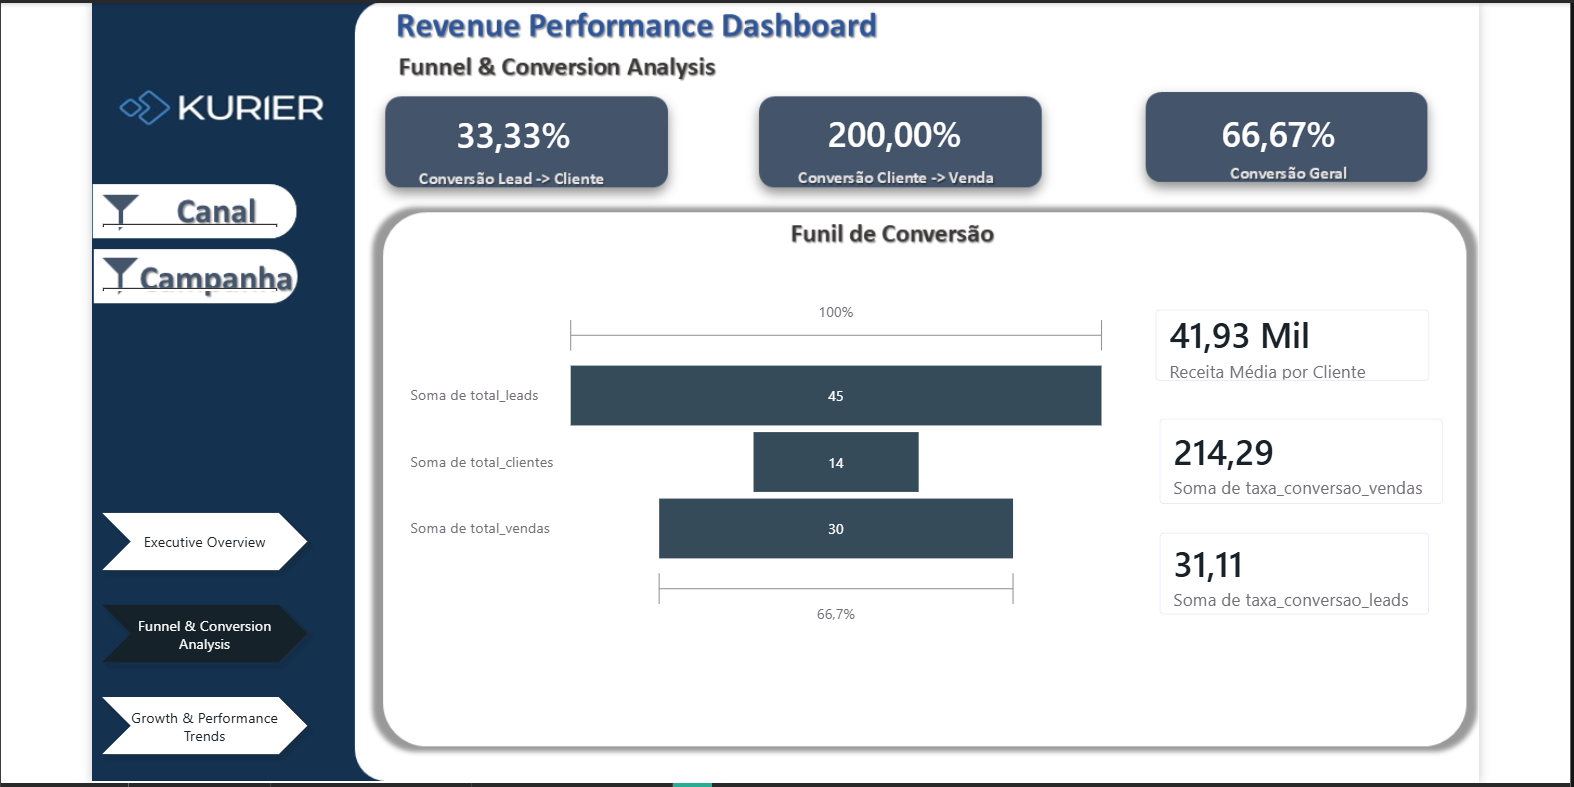

The page's visual inventory and layout, read from the dashboard file:
{"tool":"powerbi","page":{"name":"Funnel & Conversion Analysis","canvas":[1280,720],"ordinal":1},"visuals":[{"type":"cardVisual","fields":{"Data":["Medidas.Conversão Cliente → Venda (%)"]},"box":[263.2,69,252.4,100.3],"z":0},{"type":"cardVisual","fields":{"Data":["Medidas.Conversão Lead → Cliente (%)"]},"box":[614.9,68.8,253,101.2],"z":1000},{"type":"cardVisual","fields":{"Data":["Medidas.Conversão Geral (%)"]},"box":[969.1,68.8,253,101.2],"z":2000},{"type":"funnel","fields":{"Y":["Sum(funnel_conversion.total_leads)","Sum(funnel_conversion.total_clientes)","Sum(funnel_conversion.total_vendas)"]},"box":[263.4,195.9,652.5,384],"z":3000},{"type":"cardVisual","fields":{"Data":["Sum(funnel_conversion.taxa_conversao_leads)"]},"box":[968.7,370.1,283.4,111.3],"z":4000},{"type":"cardVisual","fields":{"Data":["Sum(funnel_conversion.taxa_conversao_vendas)"]},"box":[952.2,265.9,288,103.8],"z":5000},{"type":"slicer","fields":{"Values":["revenue_by_month.mes","revenue_by_month.mes.Variation.Hierarquia de datas.Mês"]},"box":[0,253,180.7,13],"z":6000},{"type":"slicer","fields":{"Values":["revenue_by_source.canal"]},"box":[0,193.7,180.7,13],"z":7000},{"type":"pageNavigator","box":[0,461.8,208.9,241.3],"z":8000}]}

Visuals, with their boxes on the page's 1280x720 design canvas (x1, y1, x2, y2). These are canvas units, not pixel positions in the 1574x787 screenshot, which may show the page scaled, cropped or inside an application window:
cardVisual - Medidas.Conversão Cliente → Venda (%): {"x1": 263, "y1": 69, "x2": 516, "y2": 169}
cardVisual - Medidas.Conversão Lead → Cliente (%): {"x1": 615, "y1": 69, "x2": 868, "y2": 170}
cardVisual - Medidas.Conversão Geral (%): {"x1": 969, "y1": 69, "x2": 1222, "y2": 170}
funnel - Sum(funnel_conversion.total_leads) x Sum(funnel_conversion.total_clientes): {"x1": 263, "y1": 196, "x2": 916, "y2": 580}
cardVisual - Sum(funnel_conversion.taxa_conversao_leads): {"x1": 969, "y1": 370, "x2": 1252, "y2": 481}
cardVisual - Sum(funnel_conversion.taxa_conversao_vendas): {"x1": 952, "y1": 266, "x2": 1240, "y2": 370}
slicer - revenue_by_month.mes x revenue_by_month.mes.Variation.Hierarquia de datas.Mês: {"x1": 0, "y1": 253, "x2": 181, "y2": 266}
slicer - revenue_by_source.canal: {"x1": 0, "y1": 194, "x2": 181, "y2": 207}
pageNavigator: {"x1": 0, "y1": 462, "x2": 209, "y2": 703}
